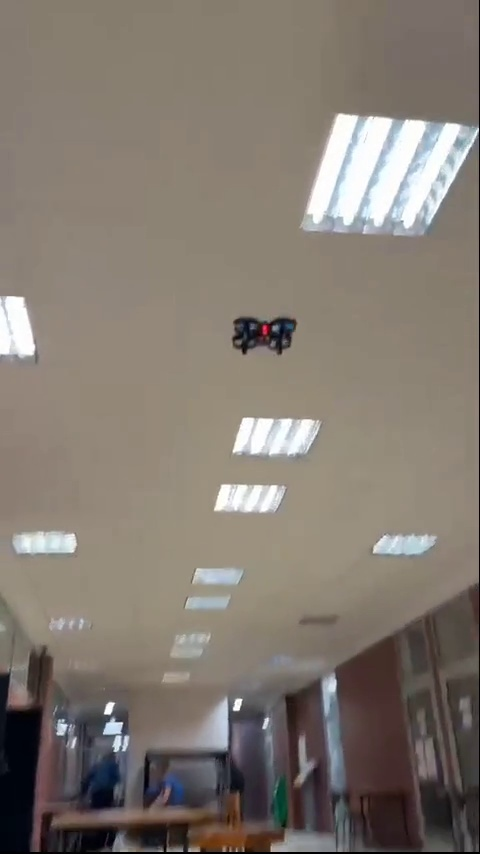drone: (233, 316, 299, 360)
no vest: (80, 754, 128, 809), (146, 754, 189, 806)
